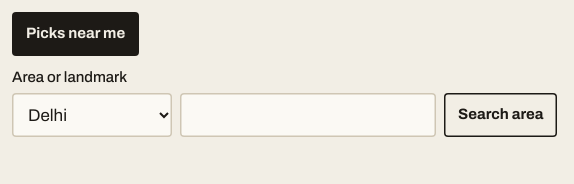
HomeNearMe › treats geolocation error code 2 (position unavailable) as unavailable, not denied
Click the button "Picks near me": (76,34) [12,12,139,56]
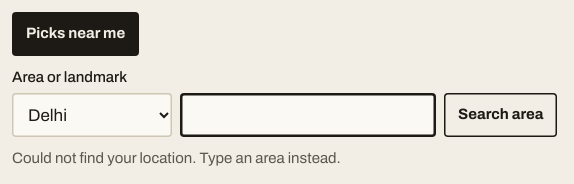
Check: the text "Could not find your location. Type an area instead." is shown, box [12,151,341,167]
